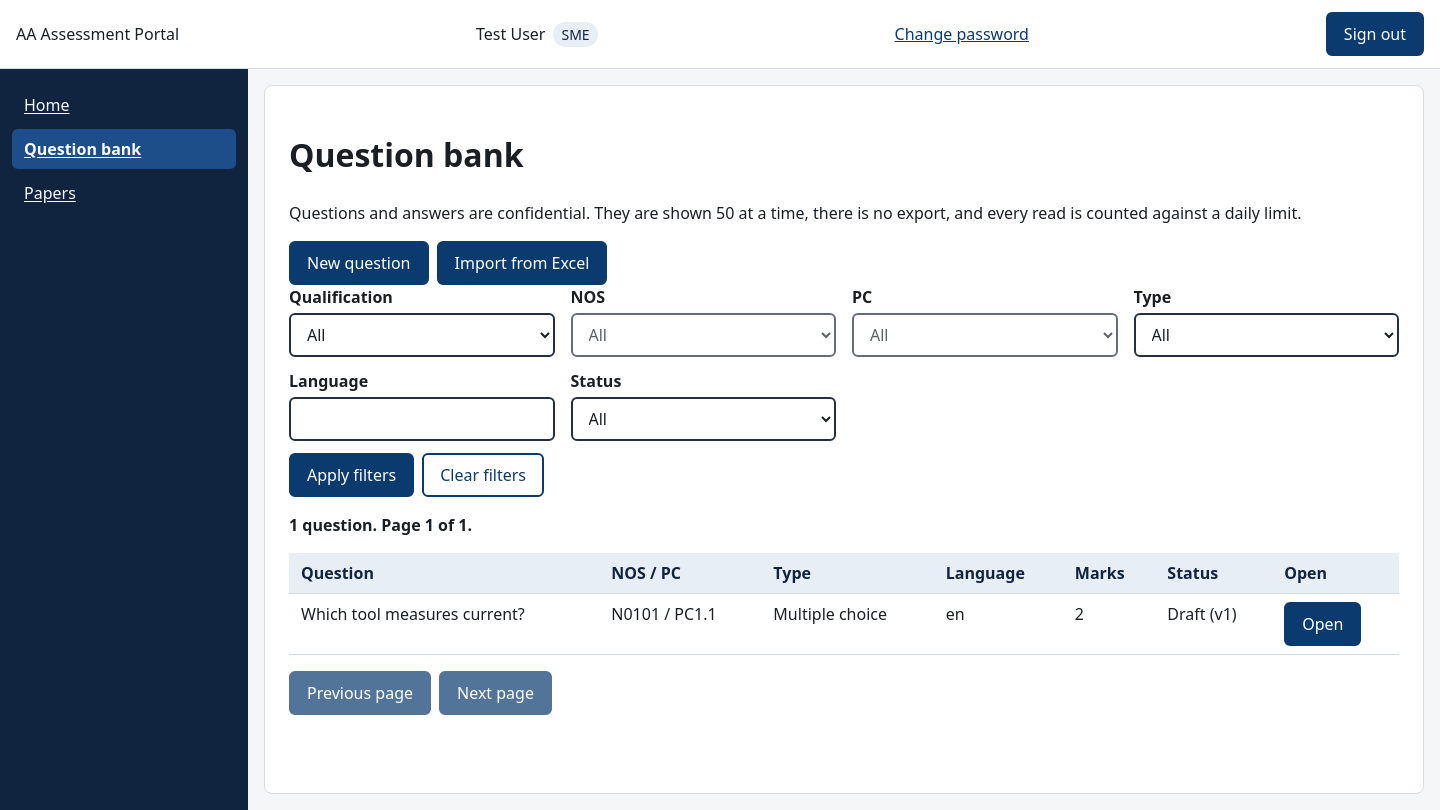
Test: lets an SME submit a draft for review but not approve it
Step 1. Click the button "Open" → [1323, 624], box top-left (1284, 602), bottom-right (1362, 646)
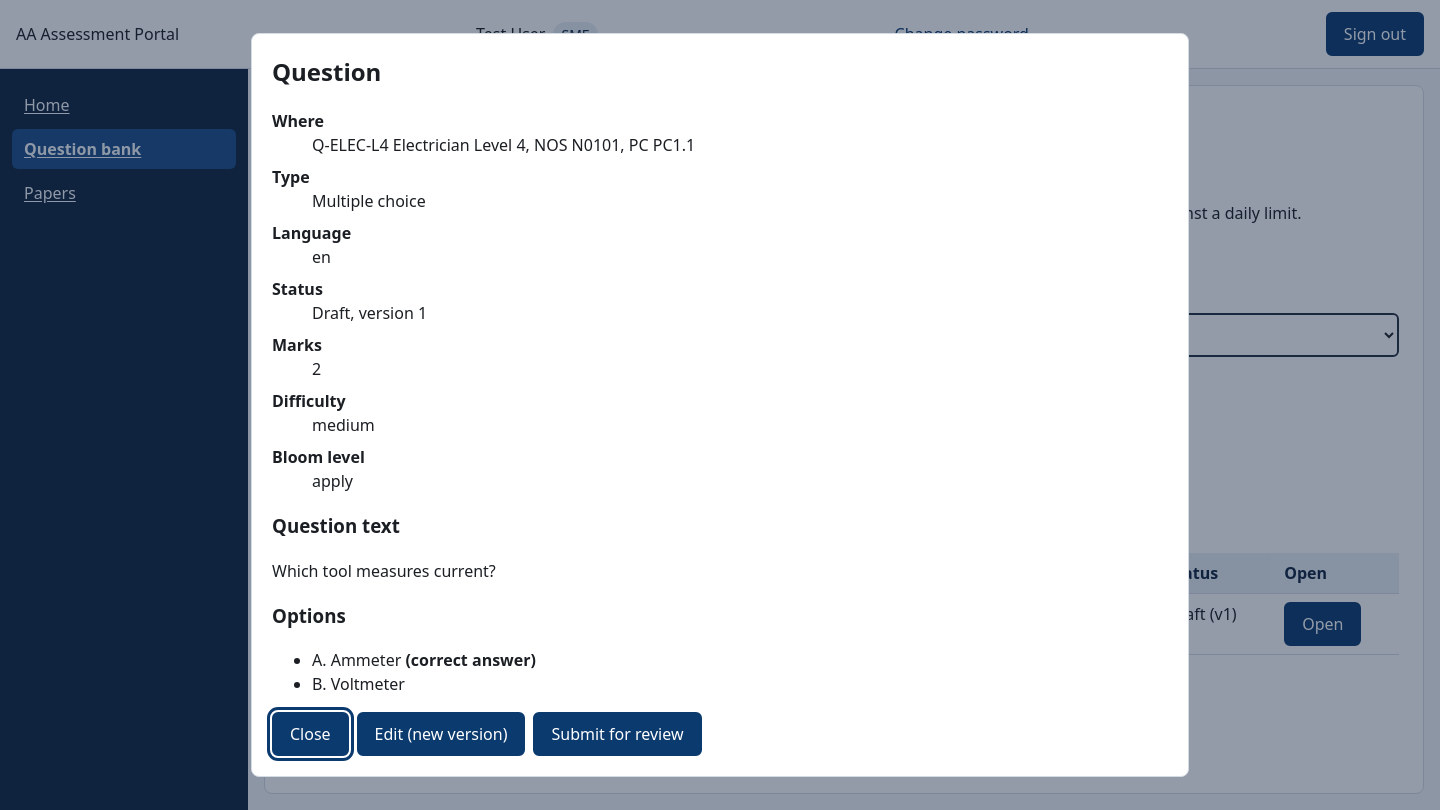
Step 2. Click the button "Submit for review" → [618, 734], box top-left (534, 712), bottom-right (702, 756)
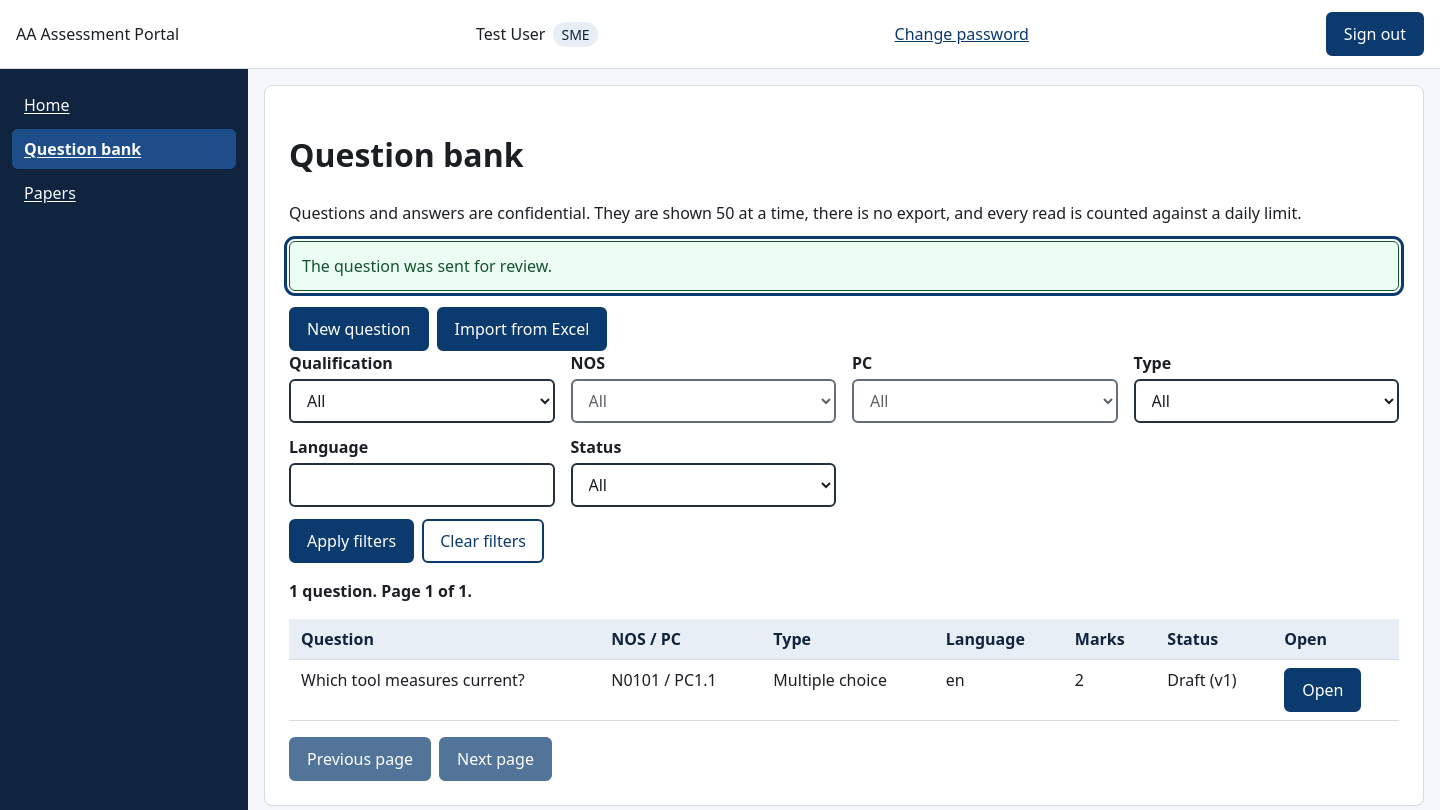
Check: the text "The question was sent for review." is shown, box top-left (289, 241), bottom-right (1399, 291)
